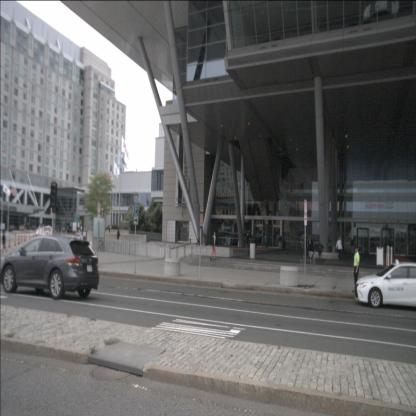cone: (13, 233, 16, 246), (8, 235, 11, 248), (17, 233, 20, 244), (20, 233, 23, 243), (23, 233, 26, 241)
